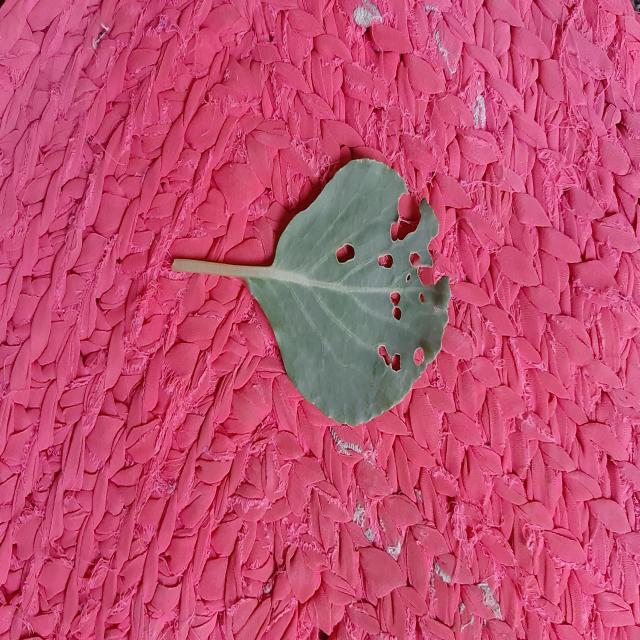Kohlrabi: (172, 160, 450, 424)
